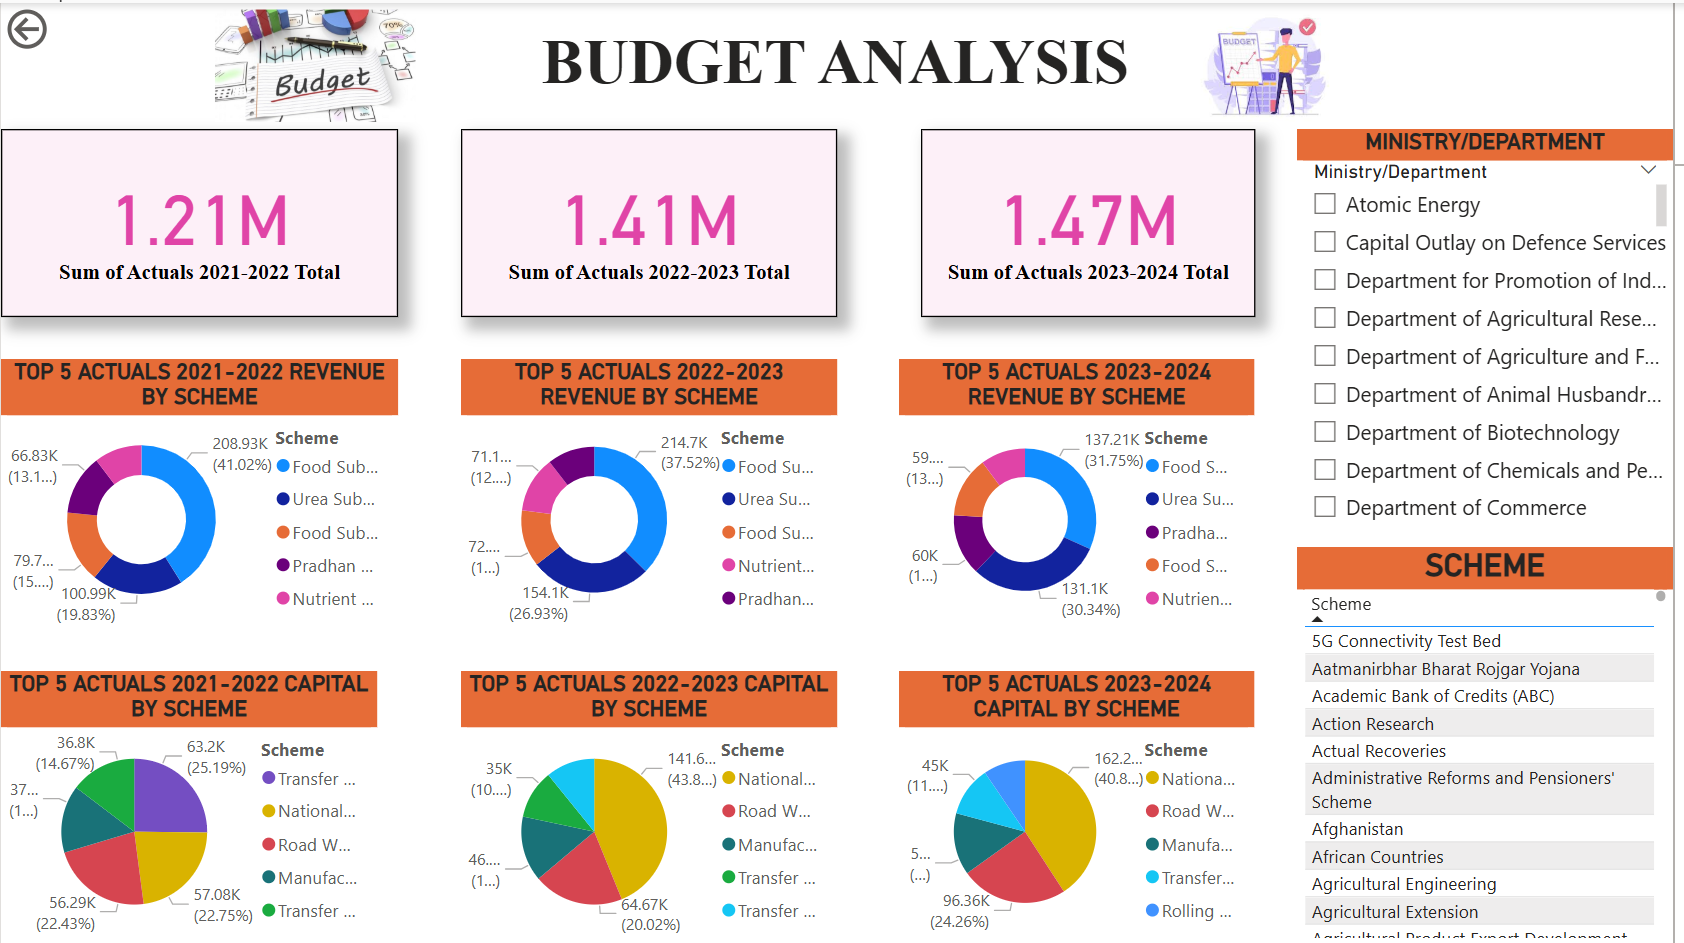

The dashboard page shown, as its layout file describes it:
{"tool":"powerbi","page":{"name":"Page 1","canvas":[1280,720],"ordinal":0},"visuals":[{"type":"textbox","box":[10.7,12.2,1255.5,68.9],"z":0},{"type":"card","fields":{"Values":["Sum(Indian Union Budget FY 21-22 till 23-24 (1).Actuals 2021-2022 Total)"]},"box":[0,96,304,144],"z":1000},{"type":"card","fields":{"Values":["Sum(Indian Union Budget FY 21-22 till 23-24 (1).Actuals 2022-2023 Total)"]},"box":[352,96,288,144],"z":2000},{"type":"card","fields":{"Values":["Sum(Indian Union Budget FY 21-22 till 23-24 (1).Actuals 2023-2024 Total)"]},"box":[704,96,256,144],"z":3000},{"type":"actionButton","box":[0,0,100,40],"z":4000},{"type":"image","box":[64,0,352,96],"z":5000},{"type":"image","box":[896,0,144,96],"z":6000},{"type":"slicer","title":"MINISTRY/DEPARTMENT","fields":{"Values":["Indian Union Budget FY 21-22 till 23-24 (1).Ministry/Department"]},"box":[992,96,288,304],"z":7000},{"type":"donutChart","title":"TOP 5 ACTUALS 2021-2022 REVENUE BY SCHEME","fields":{"Category":["Indian Union Budget FY 21-22 till 23-24 (1).Scheme"],"Y":["Sum(Indian Union Budget FY 21-22 till 23-24 (1).Actuals 2021-2022 Revenue)"]},"box":[0,272,304,208],"z":8000},{"type":"donutChart","title":"TOP 5 ACTUALS 2022-2023 REVENUE BY SCHEME","fields":{"Y":["Sum(Indian Union Budget FY 21-22 till 23-24 (1).Actuals 2022-2023 Revenue)"],"Category":["Indian Union Budget FY 21-22 till 23-24 (1).Scheme"]},"box":[352,272,288,208],"z":9000},{"type":"donutChart","title":"TOP 5 ACTUALS 2023-2024 REVENUE BY SCHEME","fields":{"Category":["Indian Union Budget FY 21-22 till 23-24 (1).Scheme"],"Y":["Sum(Indian Union Budget FY 21-22 till 23-24 (1).Actuals 2023-2024 Revenue)"]},"box":[688,272,272,208],"z":10000},{"type":"pieChart","title":"TOP 5 ACTUALS 2021-2022 CAPITAL BY SCHEME","fields":{"Y":["Sum(Indian Union Budget FY 21-22 till 23-24 (1).Actuals 2021-2022 Capital)"],"Category":["Indian Union Budget FY 21-22 till 23-24 (1).Scheme"]},"box":[0,512,288,208],"z":11000},{"type":"pieChart","title":"TOP 5 ACTUALS 2022-2023 CAPITAL BY SCHEME","fields":{"Y":["Sum(Indian Union Budget FY 21-22 till 23-24 (1).Actuals  2022-2023 Capital)"],"Category":["Indian Union Budget FY 21-22 till 23-24 (1).Scheme"]},"box":[352,512,288,208],"z":12000},{"type":"pieChart","title":"TOP 5 ACTUALS 2023-2024 CAPITAL BY SCHEME","fields":{"Y":["Sum(Indian Union Budget FY 21-22 till 23-24 (1).Actuals 2023-2024 Capital)"],"Category":["Indian Union Budget FY 21-22 till 23-24 (1).Scheme"]},"box":[688,512,272,208],"z":13000},{"type":"tableEx","title":"SCHEME","fields":{"Values":["Indian Union Budget FY 21-22 till 23-24 (1).Scheme"]},"box":[992,416,288,304],"z":14000}]}

Visuals, with their boxes in screenshot pixels (x1, y1, x2, y2), scaled from the page's 1280x720 canvas onto the 1684x943 screenshot:
textbox: 14:16:1666:106
card - Sum(Indian Union Budget FY 21-22 till 23-24 (1).Actuals 2021-2022 Total): 0:126:400:314
card - Sum(Indian Union Budget FY 21-22 till 23-24 (1).Actuals 2022-2023 Total): 463:126:842:314
card - Sum(Indian Union Budget FY 21-22 till 23-24 (1).Actuals 2023-2024 Total): 926:126:1263:314
actionButton: 0:0:132:52
image: 84:0:547:126
image: 1179:0:1368:126
"MINISTRY/DEPARTMENT" slicer: 1305:126:1683:524
"TOP 5 ACTUALS 2021-2022 REVENUE BY SCHEME" donutChart: 0:356:400:629
"TOP 5 ACTUALS 2022-2023 REVENUE BY SCHEME" donutChart: 463:356:842:629
"TOP 5 ACTUALS 2023-2024 REVENUE BY SCHEME" donutChart: 905:356:1263:629
"TOP 5 ACTUALS 2021-2022 CAPITAL BY SCHEME" pieChart: 0:671:379:942
"TOP 5 ACTUALS 2022-2023 CAPITAL BY SCHEME" pieChart: 463:671:842:942
"TOP 5 ACTUALS 2023-2024 CAPITAL BY SCHEME" pieChart: 905:671:1263:942
"SCHEME" tableEx: 1305:545:1683:942
